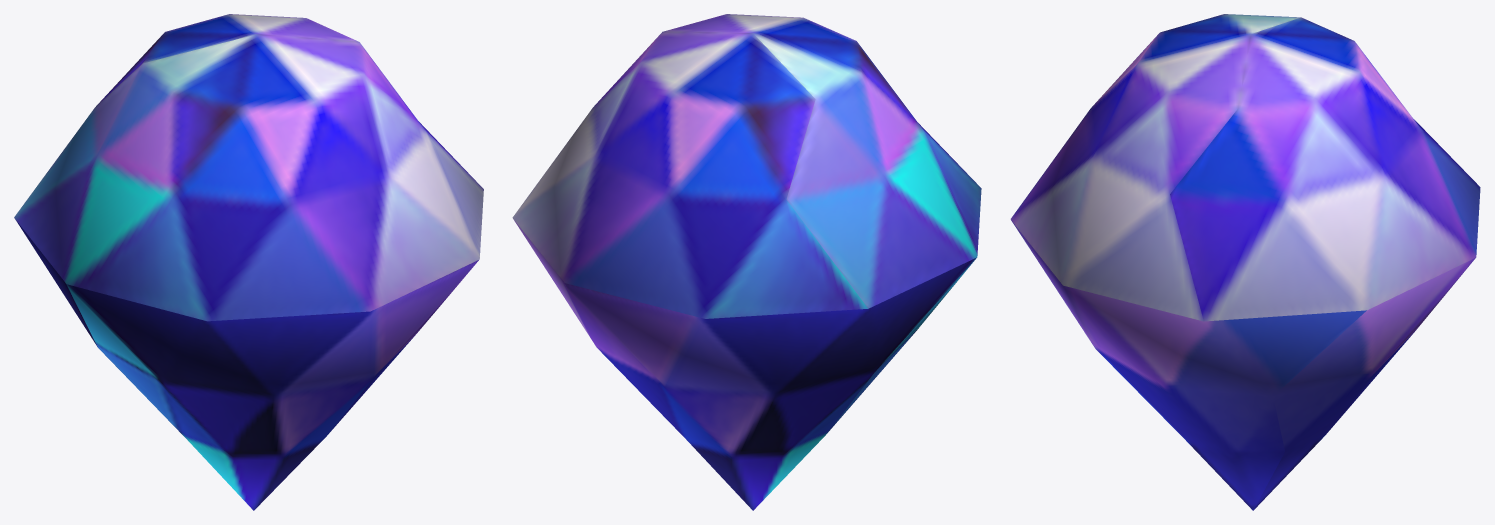
Rendered from d_1011_deco.FBX.
The picture shows the model from 3 angles, left to right: view 1: azimuth 30°, elevation 25°; view 2: azimuth 150°, elevation 25°; view 3: azimuth 270°, elevation 25°; orthographic projection.
Parts seen in each view (by area): view 1: 2927; view 2: 2927; view 3: 2927.
Boxes of the visible parts, x1,y1,x2,y2 form: 2927: [14, 14, 483, 510]; 2927: [512, 14, 981, 510]; 2927: [1010, 14, 1480, 510].
Bounding box in the file's own units: 47.77 × 52.94 × 47.25.
Materials: 1 (1 with a texture image).
